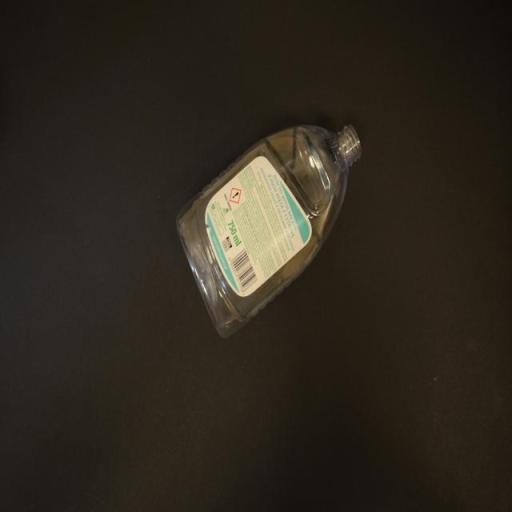plastic: (174, 122, 364, 339)
